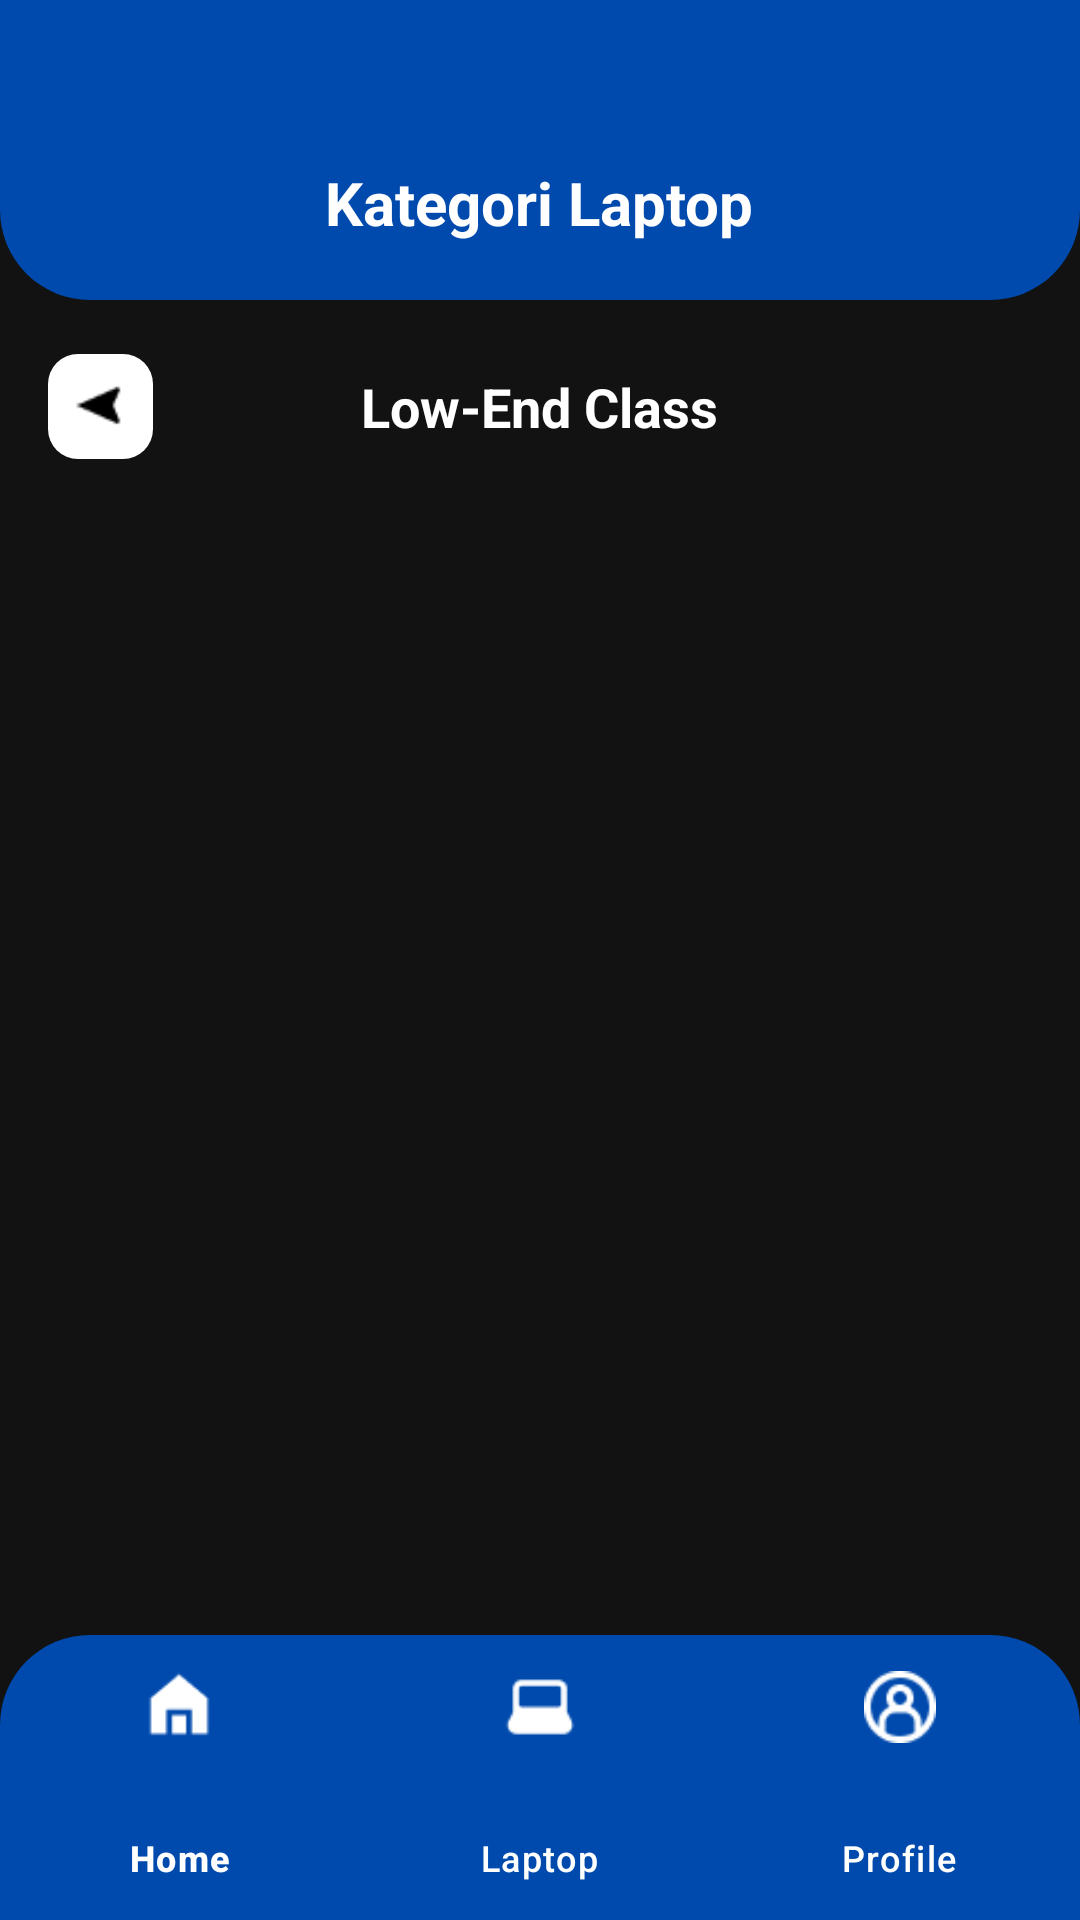

Screen size 1080×1920. Icon name, then its center in pixels as (x,y):
back: (100,406)
